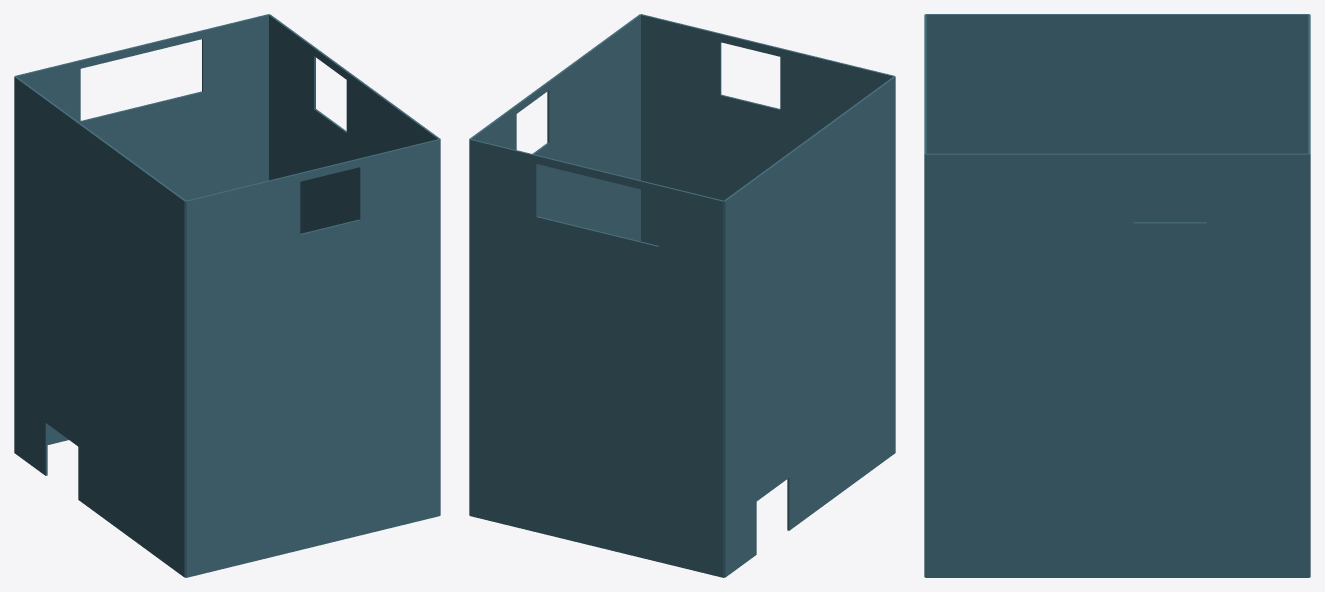
File: v02-03-06-glass.glb
3 renders of one model, left to right at view 1: azimuth 30°, elevation 25°; view 2: azimuth 150°, elevation 25°; view 3: azimuth 270°, elevation 25°, orthographic. The views are drawn at different scales.
Visible parts, largest first — view 1: v02-03-06-glass; view 2: v02-03-06-glass; view 3: v02-03-06-glass.
Boxes of the visible parts, x1,y1,x2,y2 form: v02-03-06-glass: (14,14,440,577); v02-03-06-glass: (469,14,895,577); v02-03-06-glass: (924,14,1310,577).
Size of the model in its own units: 13.6 by 19.1 by 15.8.
